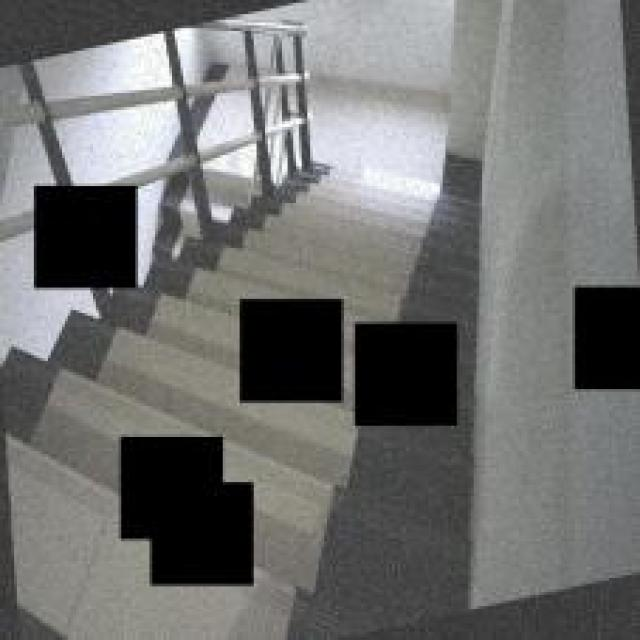downstair: (293, 152, 482, 299)
